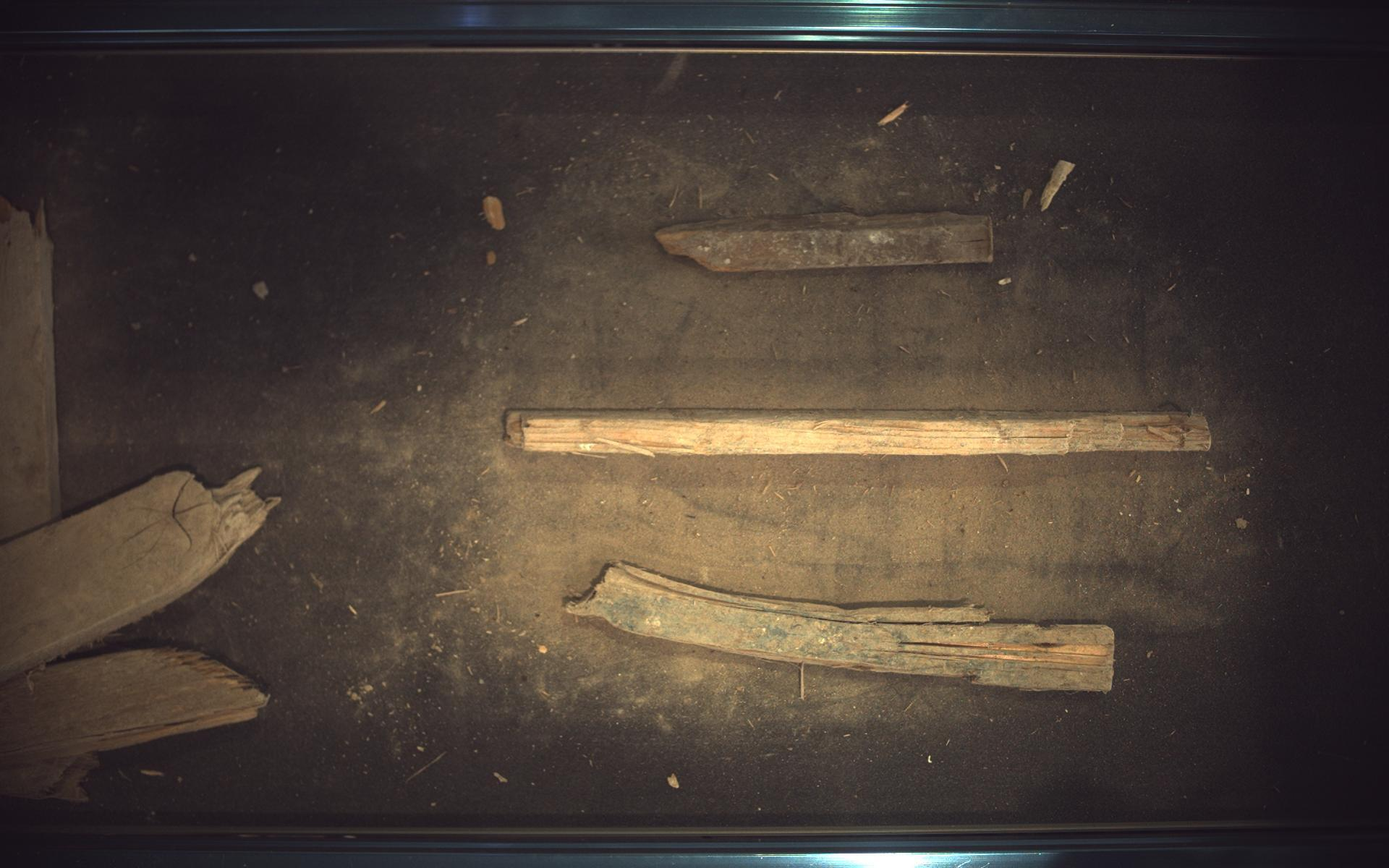wood: (566, 563, 1117, 692), (505, 409, 1215, 456), (656, 211, 995, 271)
